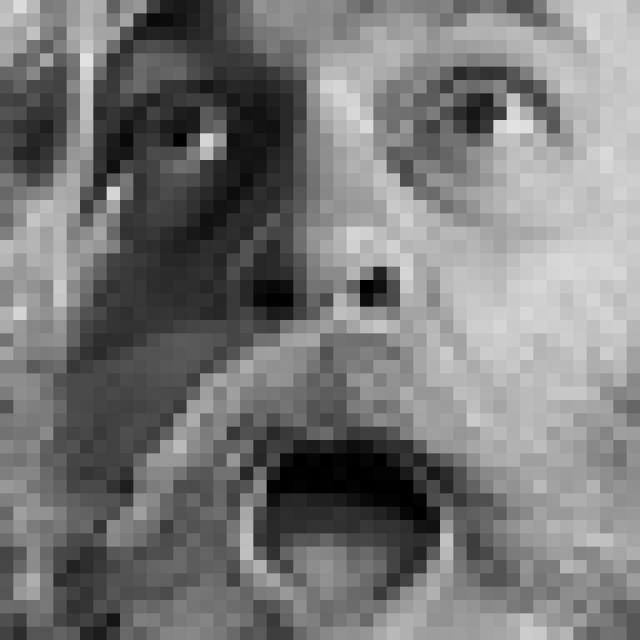surprise: (84, 1, 596, 640)
